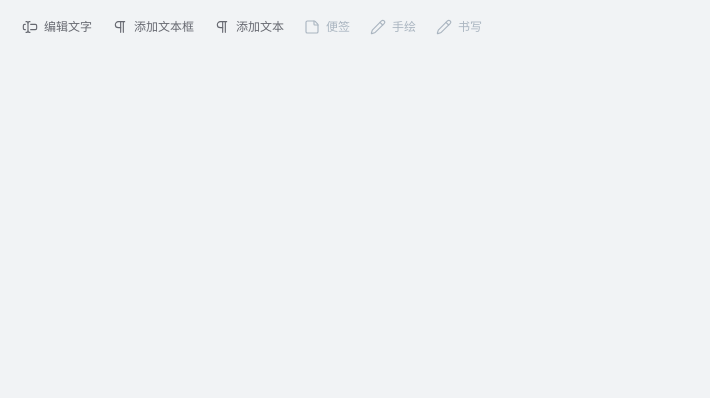
Test: PageTextLayer text editing › cancels without writing anything
expect the element named "文本层" is shown: met, box [12,12,492,42]
Click the button "编辑文字" at (57, 27), box [12,12,102,42]
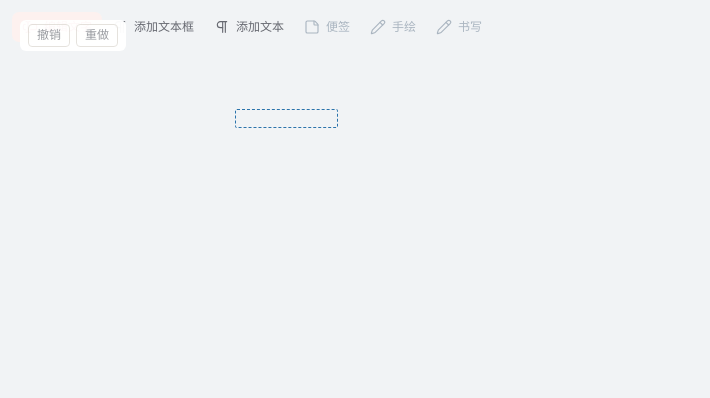
Press the mouse on the element named "文本层" at (73, 35), box [12,12,492,128]
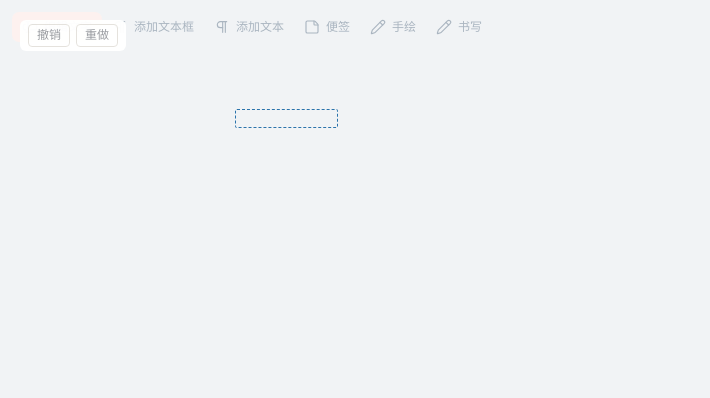
Double-click the element named "文本层" at (73, 35), box [12,12,492,128]
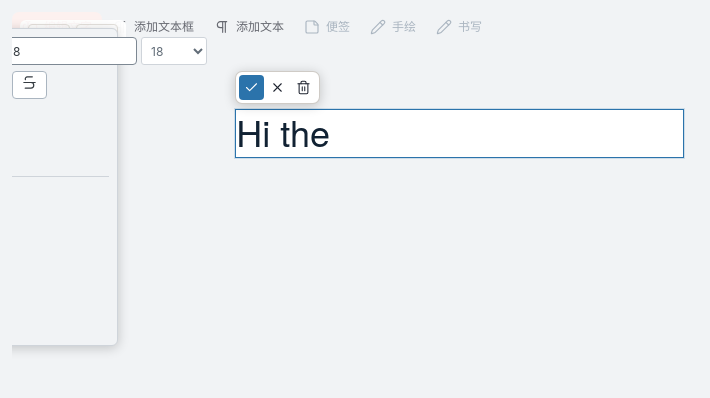
Replace the text in the text box named "文字内容" with "Never committed" at (460, 134), box [236,110,683,157]
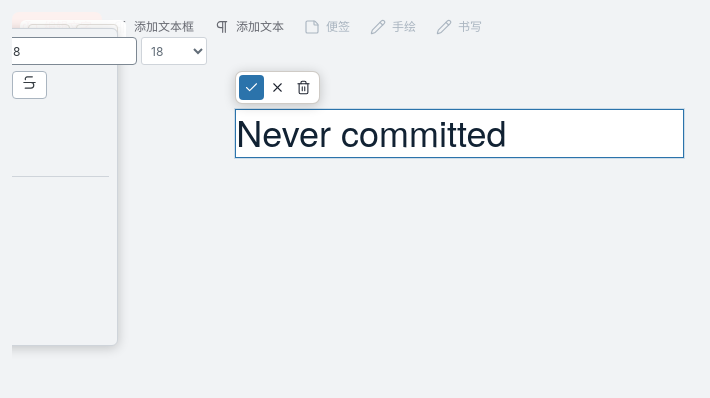
Click the button named "取消" at (278, 88), box [265,75,290,100]
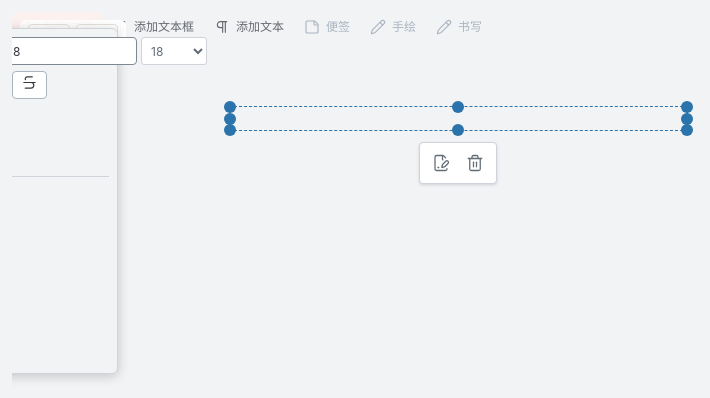
expect the element with test id "text-box-editor" is gone: met
